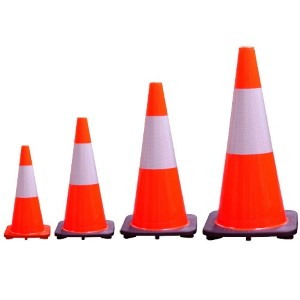traffic cone: (202, 46, 298, 241), (119, 82, 198, 239), (54, 117, 115, 241), (3, 141, 51, 240)
